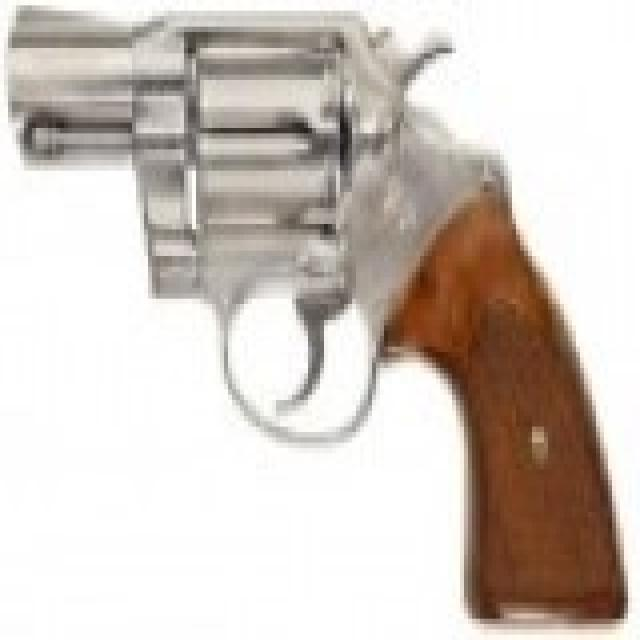Gun: (10, 2, 624, 619)
